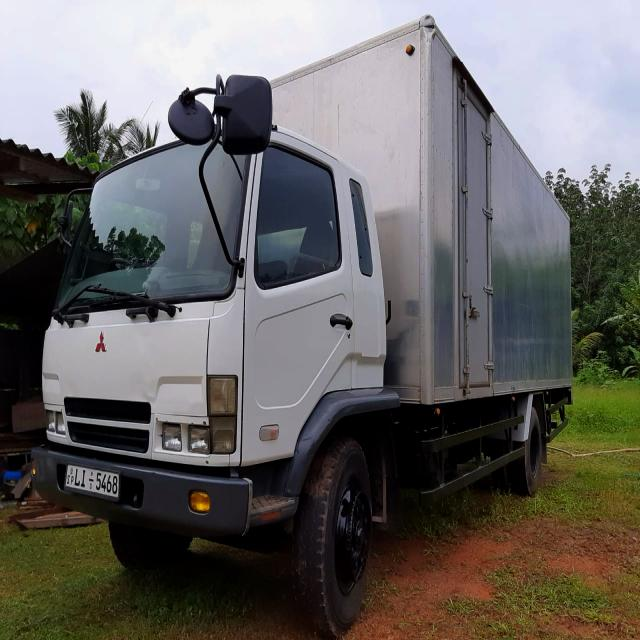truck: (21, 20, 577, 636)
